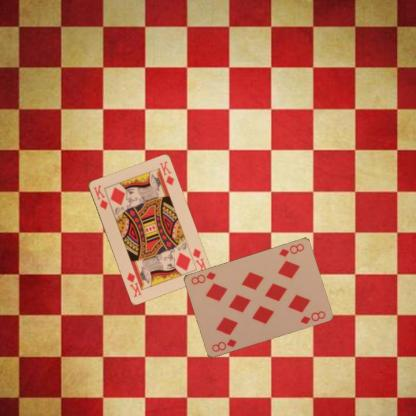8d: (209, 336, 238, 354), (276, 241, 305, 258)
Kd: (190, 245, 209, 274), (90, 183, 109, 210)
